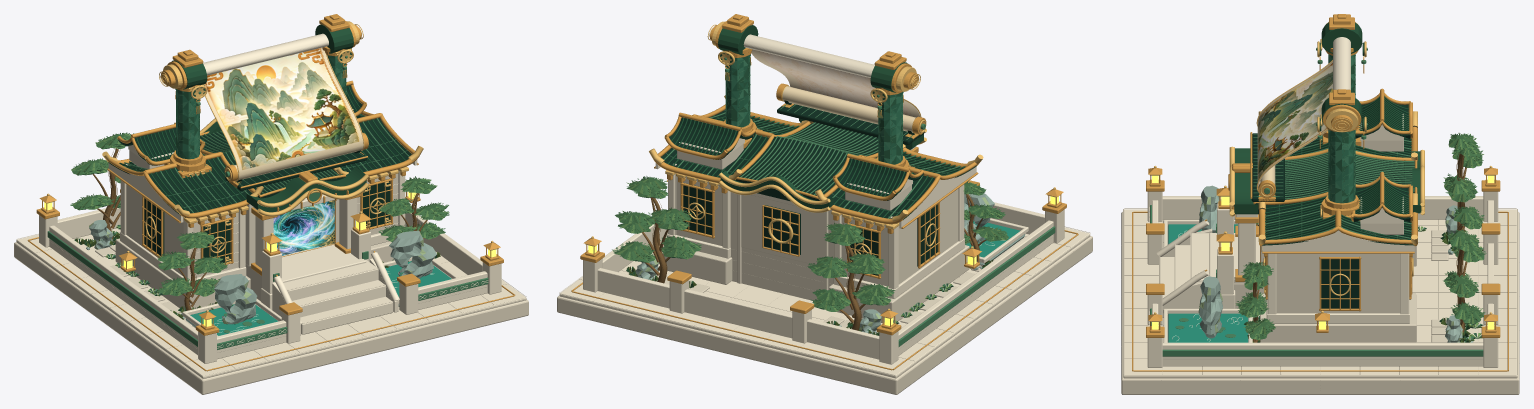
The model's file is relic-v20.glb.
The picture shows the model from 3 angles, left to right: view 1: azimuth 30°, elevation 25°; view 2: azimuth 150°, elevation 25°; view 3: azimuth 270°, elevation 25°; orthographic projection. The views are drawn at different scales.
Parts seen in each view (by area): view 1: GEO-export-MAT-relic-cream.019, GEO-export-MAT-relic-ivory.019, GEO-export-MAT-relic-rolled-front-v16.008, GEO-export-MAT-relic-gold.019, GEO-export-MAT-relic-jade-dark.019, GEO-export-MAT-relic-v20-needle-mid, GEO-export-MAT-relic-jade-light.019, GEO-export-MAT-relic-gold-light.019, GEO-export-MAT-relic-rock.019, GEO-export-MAT-relic-jade.019, GEO-export-MAT-relic-v17-portal-energy.006, GEO-export-MAT-relic-v20-needle-lit (+8 smaller); view 2: GEO-export-MAT-relic-cream.019, GEO-export-MAT-relic-ivory.019, GEO-export-MAT-relic-jade-dark.019, GEO-export-MAT-relic-gold.019, GEO-export-MAT-relic-v20-needle-mid, GEO-export-MAT-relic-jade-light.019, GEO-export-MAT-relic-gold-light.019, GEO-export-MAT-relic-scroll-painted-back.012, GEO-export-MAT-relic-jade-mid.019, GEO-export-MAT-relic-v20-needle-lit, GEO-export-MAT-relic-jade.019, GEO-export-MAT-relic-wood.019 (+8 smaller); view 3: GEO-export-MAT-relic-cream.019, GEO-export-MAT-relic-ivory.019, GEO-export-MAT-relic-gold.019, GEO-export-MAT-relic-jade-dark.019, GEO-export-MAT-relic-jade-light.019, GEO-export-MAT-relic-v20-needle-mid, GEO-export-MAT-relic-rolled-front-v16.008, GEO-export-MAT-relic-jade-mid.019, GEO-export-MAT-relic-gold-light.019, GEO-export-MAT-relic-jade.019, GEO-export-MAT-relic-rock.019, GEO-export-MAT-relic-v20-needle-lit (+8 smaller).
Part boxes in pixels (x1,y1,x2,y2): GEO-export-MAT-relic-cream.019: [16, 33, 526, 378]; GEO-export-MAT-relic-ivory.019: [14, 109, 528, 394]; GEO-export-MAT-relic-rolled-front-v16.008: [203, 47, 363, 179]; GEO-export-MAT-relic-gold.019: [27, 14, 515, 371]; GEO-export-MAT-relic-jade-dark.019: [108, 85, 411, 263]; GEO-export-MAT-relic-v20-needle-mid: [70, 132, 449, 296]; GEO-export-MAT-relic-jade-light.019: [47, 55, 488, 349]; GEO-export-MAT-relic-gold-light.019: [42, 21, 498, 319]; GEO-export-MAT-relic-rock.019: [86, 220, 436, 327]; GEO-export-MAT-relic-jade.019: [171, 24, 366, 212]; GEO-export-MAT-relic-v17-portal-energy.006: [273, 200, 334, 255]; GEO-export-MAT-relic-v20-needle-lit: [71, 134, 449, 296]; GEO-export-MAT-relic-cream.019: [559, 34, 1090, 378]; GEO-export-MAT-relic-ivory.019: [557, 142, 1092, 394]; GEO-export-MAT-relic-jade-dark.019: [661, 100, 976, 275]; GEO-export-MAT-relic-gold.019: [571, 14, 1078, 370]; GEO-export-MAT-relic-v20-needle-mid: [612, 176, 1008, 311]; GEO-export-MAT-relic-jade-light.019: [664, 54, 1055, 346]; GEO-export-MAT-relic-gold-light.019: [585, 21, 1060, 318]; GEO-export-MAT-relic-scroll-painted-back.012: [751, 49, 919, 117]; GEO-export-MAT-relic-jade-mid.019: [665, 116, 965, 217]; GEO-export-MAT-relic-v20-needle-lit: [616, 178, 1007, 311]; GEO-export-MAT-relic-jade.019: [718, 25, 923, 208]; GEO-export-MAT-relic-wood.019: [641, 194, 986, 330]; GEO-export-MAT-relic-cream.019: [1123, 37, 1517, 378]; GEO-export-MAT-relic-ivory.019: [1121, 114, 1519, 394]; GEO-export-MAT-relic-gold.019: [1132, 14, 1508, 371]; GEO-export-MAT-relic-jade-dark.019: [1251, 98, 1414, 308]; GEO-export-MAT-relic-jade-light.019: [1150, 48, 1483, 356]; GEO-export-MAT-relic-v20-needle-mid: [1236, 133, 1486, 339]; GEO-export-MAT-relic-rolled-front-v16.008: [1257, 61, 1332, 184]; GEO-export-MAT-relic-jade-mid.019: [1265, 96, 1411, 239]; GEO-export-MAT-relic-gold-light.019: [1149, 39, 1496, 321]; GEO-export-MAT-relic-jade.019: [1234, 22, 1421, 214]; GEO-export-MAT-relic-rock.019: [1167, 185, 1473, 342]; GEO-export-MAT-relic-v20-needle-lit: [1235, 133, 1483, 339].
Bounding box in the file's own units: 10 × 7.16 × 10.
32 materials, 3 textured.
